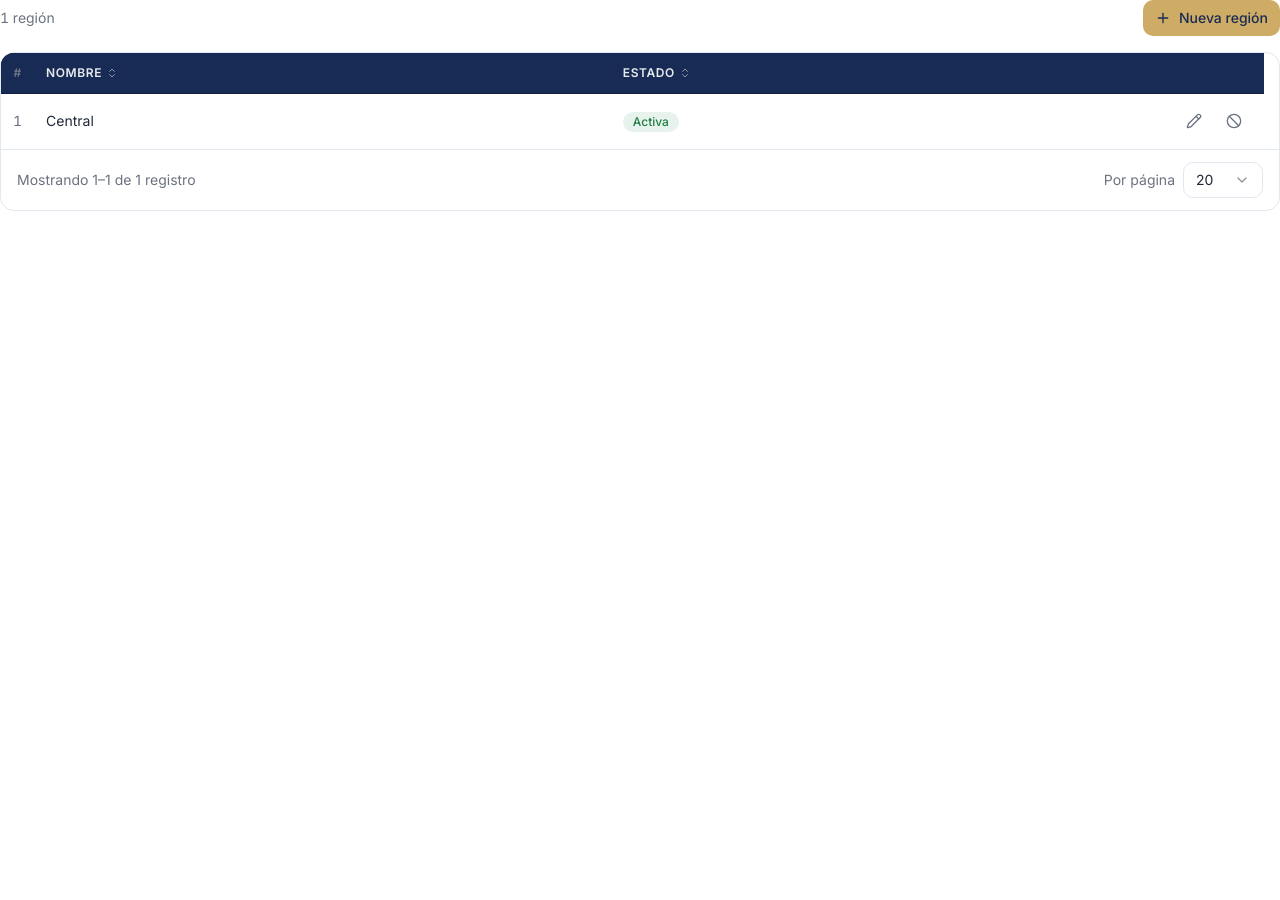
Test: GestionRegiones › muestra el error de la API al fallar la desactivación
The width and height of the screenshot is (1280, 900).
Click the button named "Desactivar" at (1234, 121), box [1216,103,1252,139]
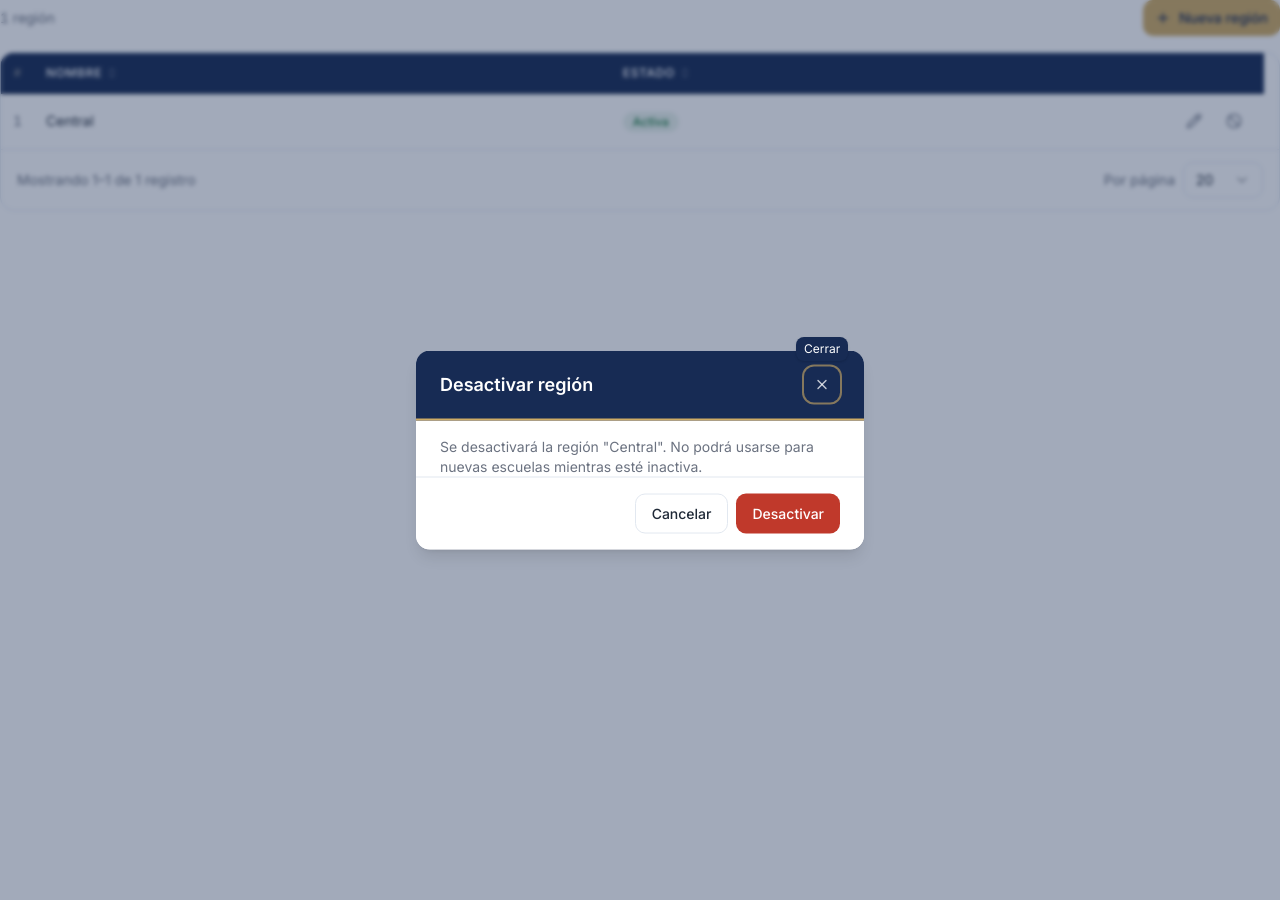
Click the button "Desactivar" at (788, 514), box [736,494,840,534]
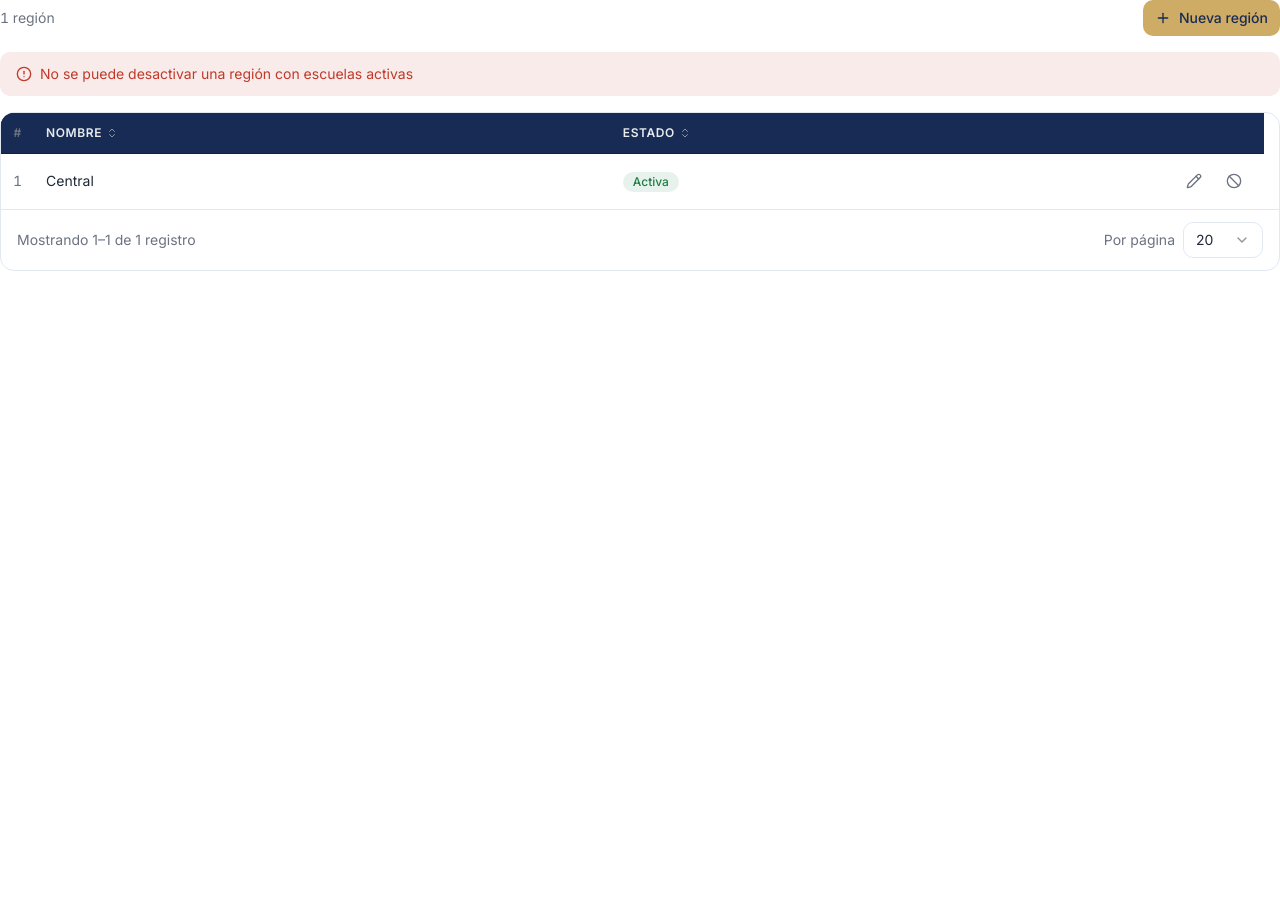
Result: the text "No se puede desactivar una región con escuelas activas" is shown at [40,64,413,84]
